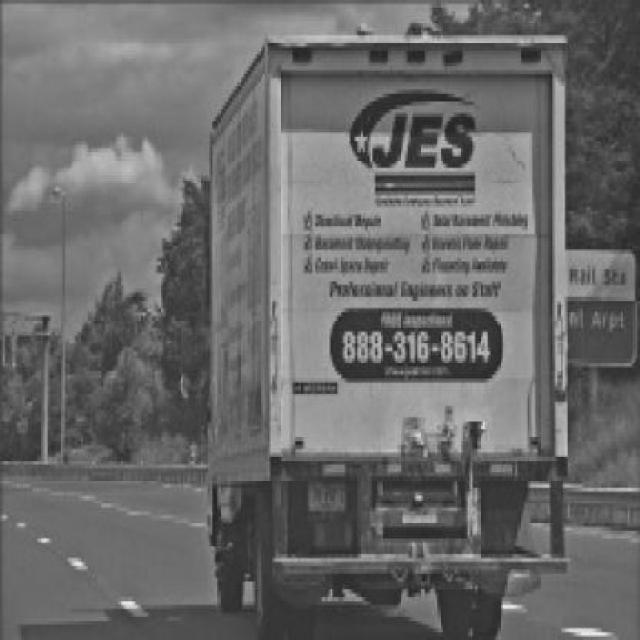Box Truck: (208, 35, 569, 640)
